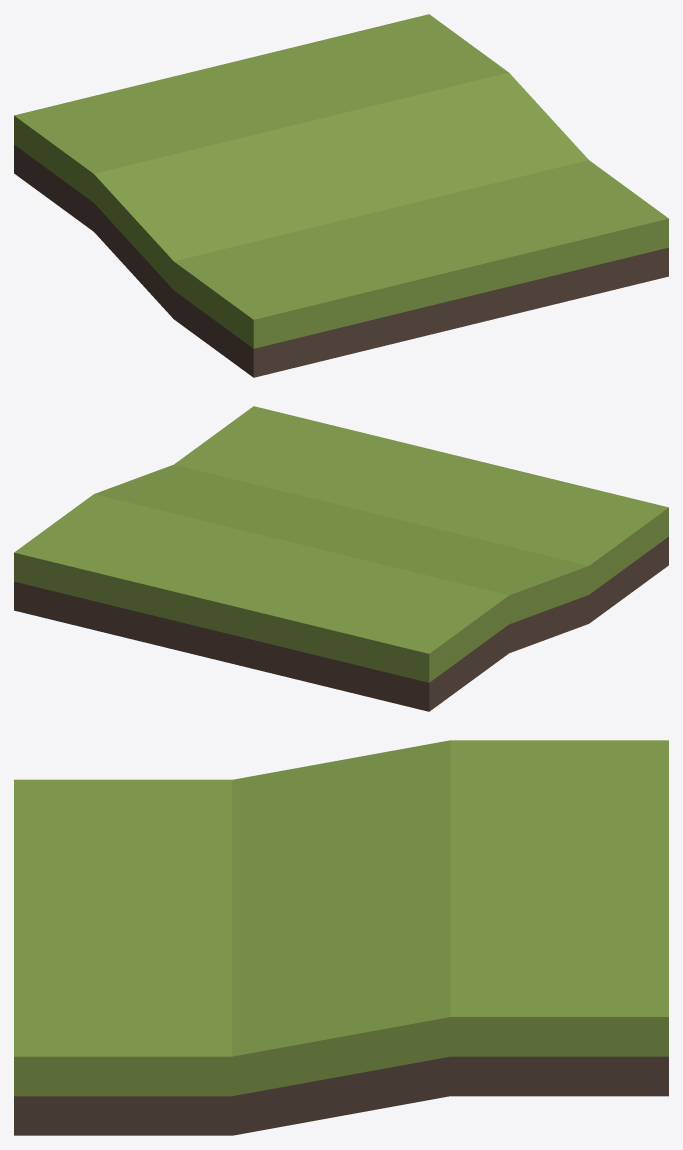
File: grass-tile-hill-middle_01.fbx
3 renders of one model, top to bottom at view 1: azimuth 30°, elevation 25°; view 2: azimuth 150°, elevation 25°; view 3: azimuth 270°, elevation 25°, orthographic. The views are drawn at different scales.
Visible parts, largest first — view 1: grass-tile-hill-middle_01; view 2: grass-tile-hill-middle_01; view 3: grass-tile-hill-middle_01.
Part boxes in pixels (x1=…): grass-tile-hill-middle_01: x1=14, y1=14, x2=668, y2=377; grass-tile-hill-middle_01: x1=14, y1=406, x2=668, y2=711; grass-tile-hill-middle_01: x1=14, y1=740, x2=668, y2=1135.
Size of the model in its own units: 3000 by 600 by 3000.
